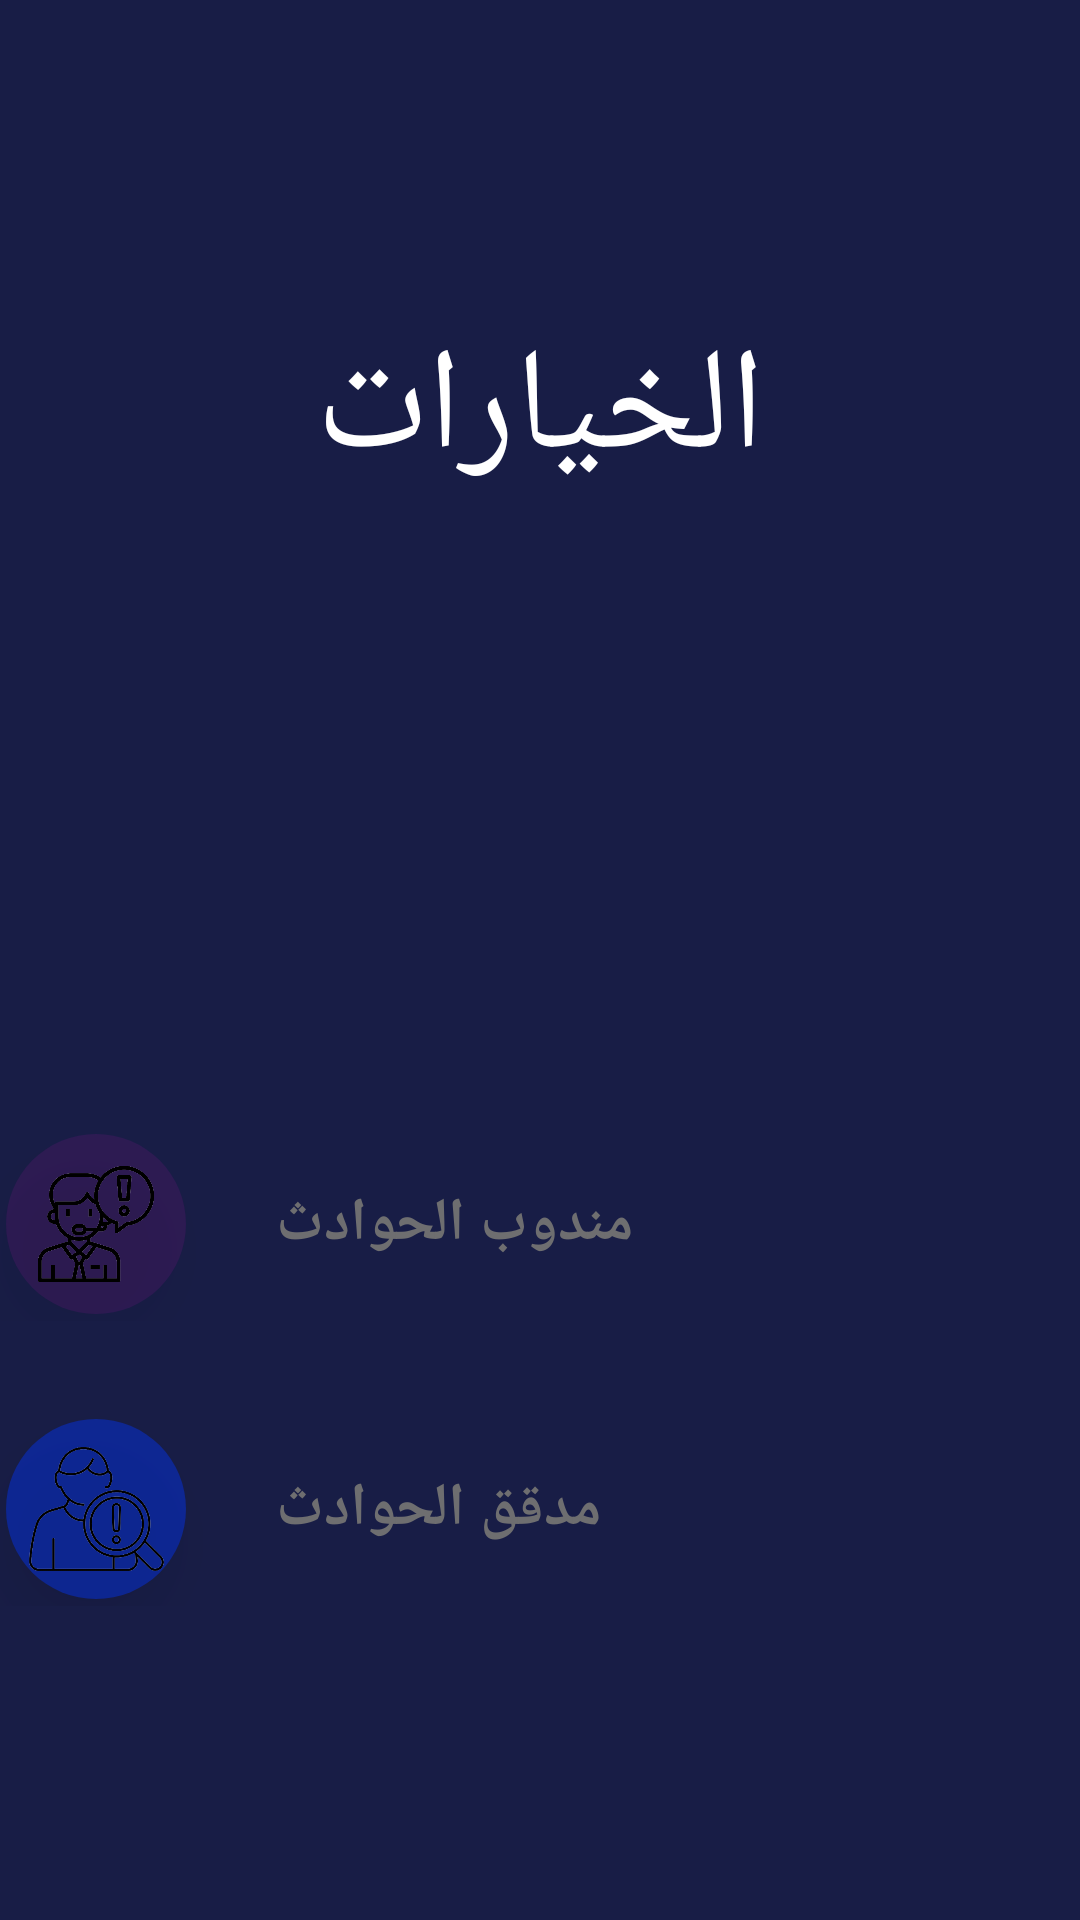

Where to tap for icons on this 1080×1920 app screen, as [x,y]:
mandob: [96,1224]
modaqeq: [96,1509]
